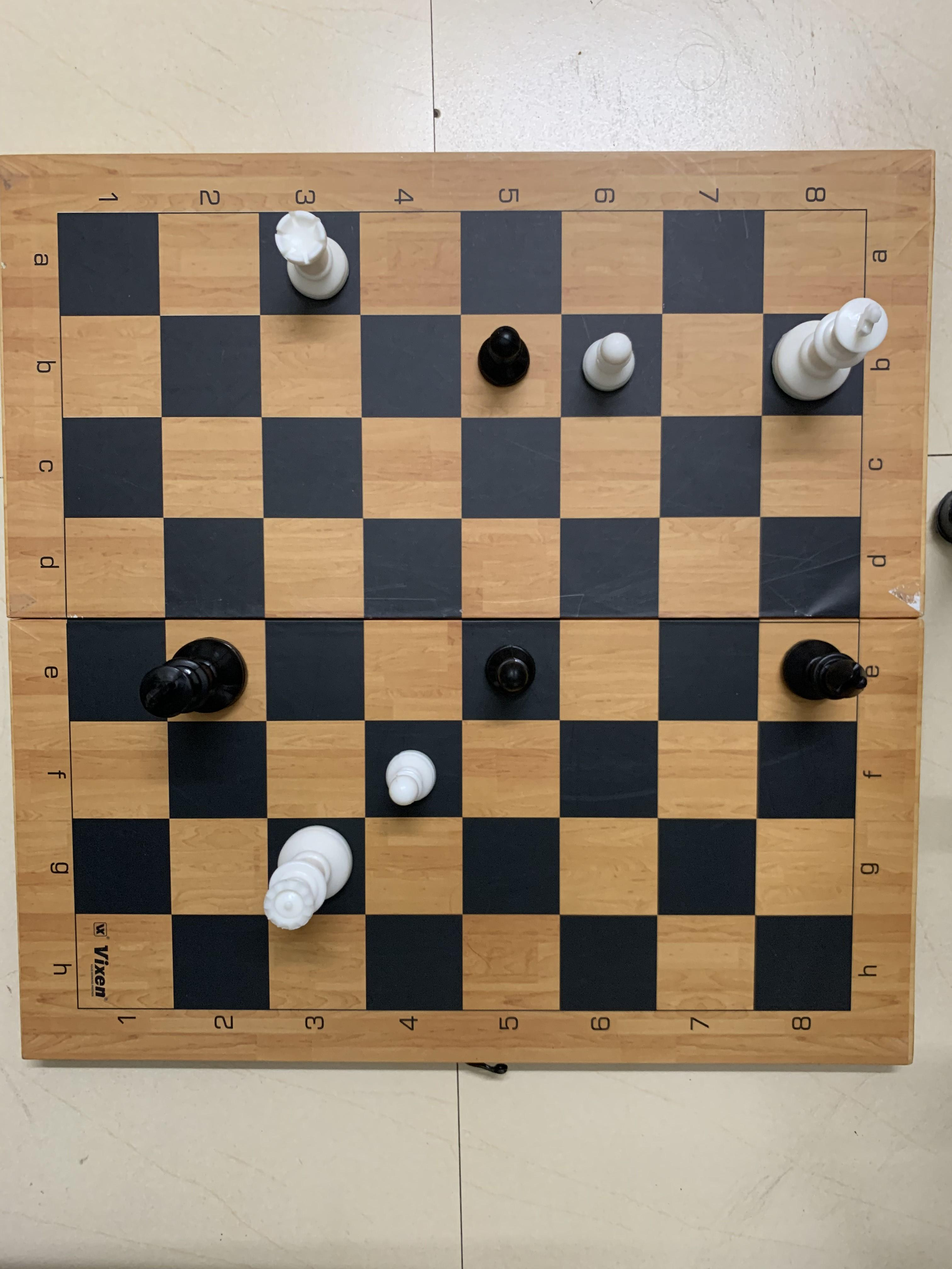black_bishop: (771, 622, 880, 720)
black_king: (124, 625, 276, 736)
black_pawn: (471, 623, 564, 722), (460, 321, 550, 419)
white_king: (767, 293, 906, 412)
white_pawn: (362, 718, 470, 818), (564, 326, 654, 406)
white_queen: (260, 820, 365, 946)
white_rook: (257, 199, 365, 310)
